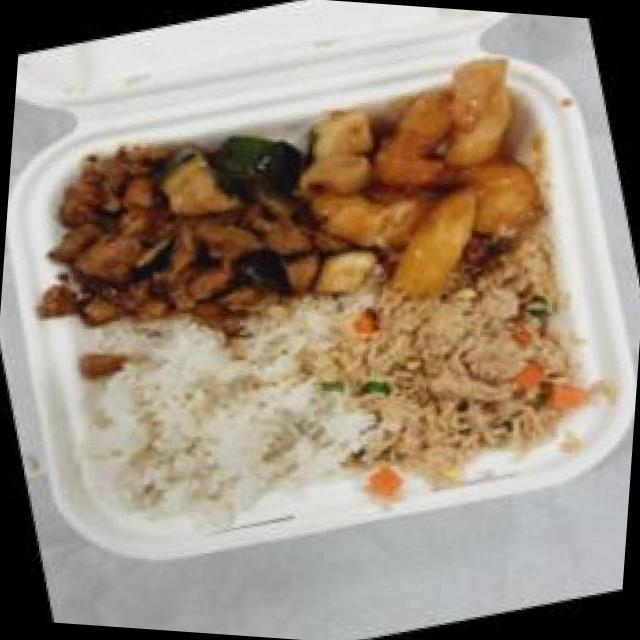Fried Rice: (284, 230, 620, 520)
Honey Walnut Shrimp: (246, 25, 590, 338)
Kung Pao Chicken: (7, 92, 350, 378)
White Steamed Rice: (54, 288, 364, 556)
